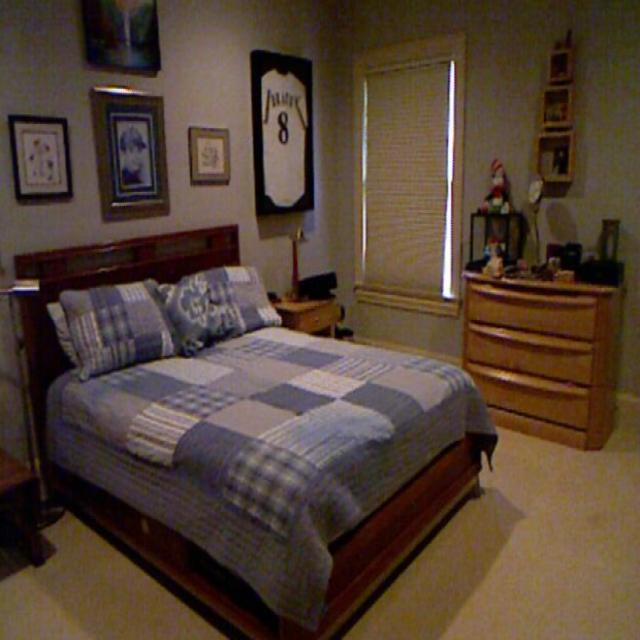obstacle: (14, 242, 499, 634), (449, 196, 640, 461)
